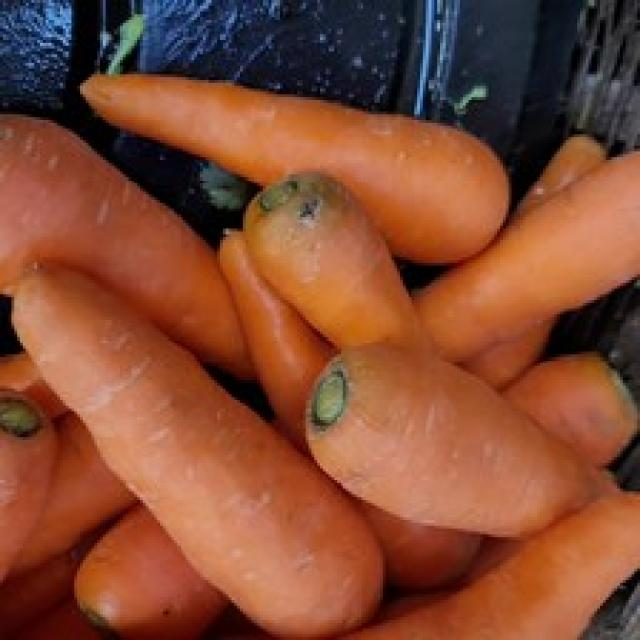Fresh_Carrot: (0, 217, 429, 640), (73, 46, 543, 275), (294, 314, 640, 577)
